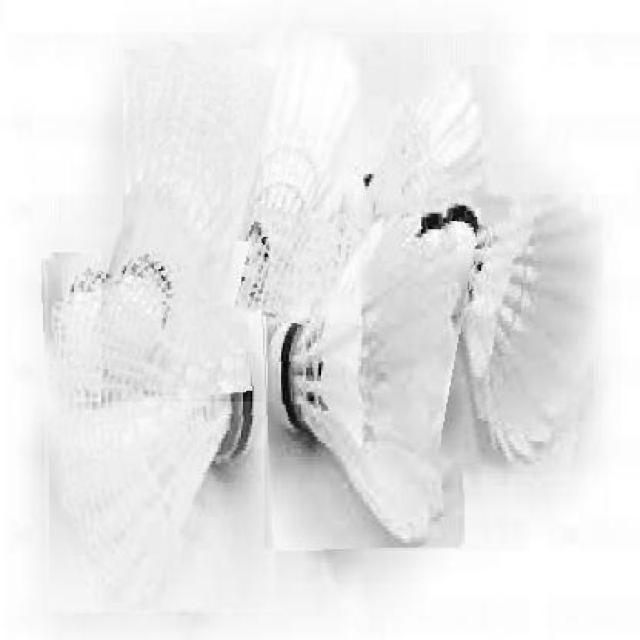Shuttlecock: (45, 251, 274, 612), (265, 212, 463, 550), (102, 43, 276, 402), (412, 192, 603, 474), (232, 28, 360, 323)
